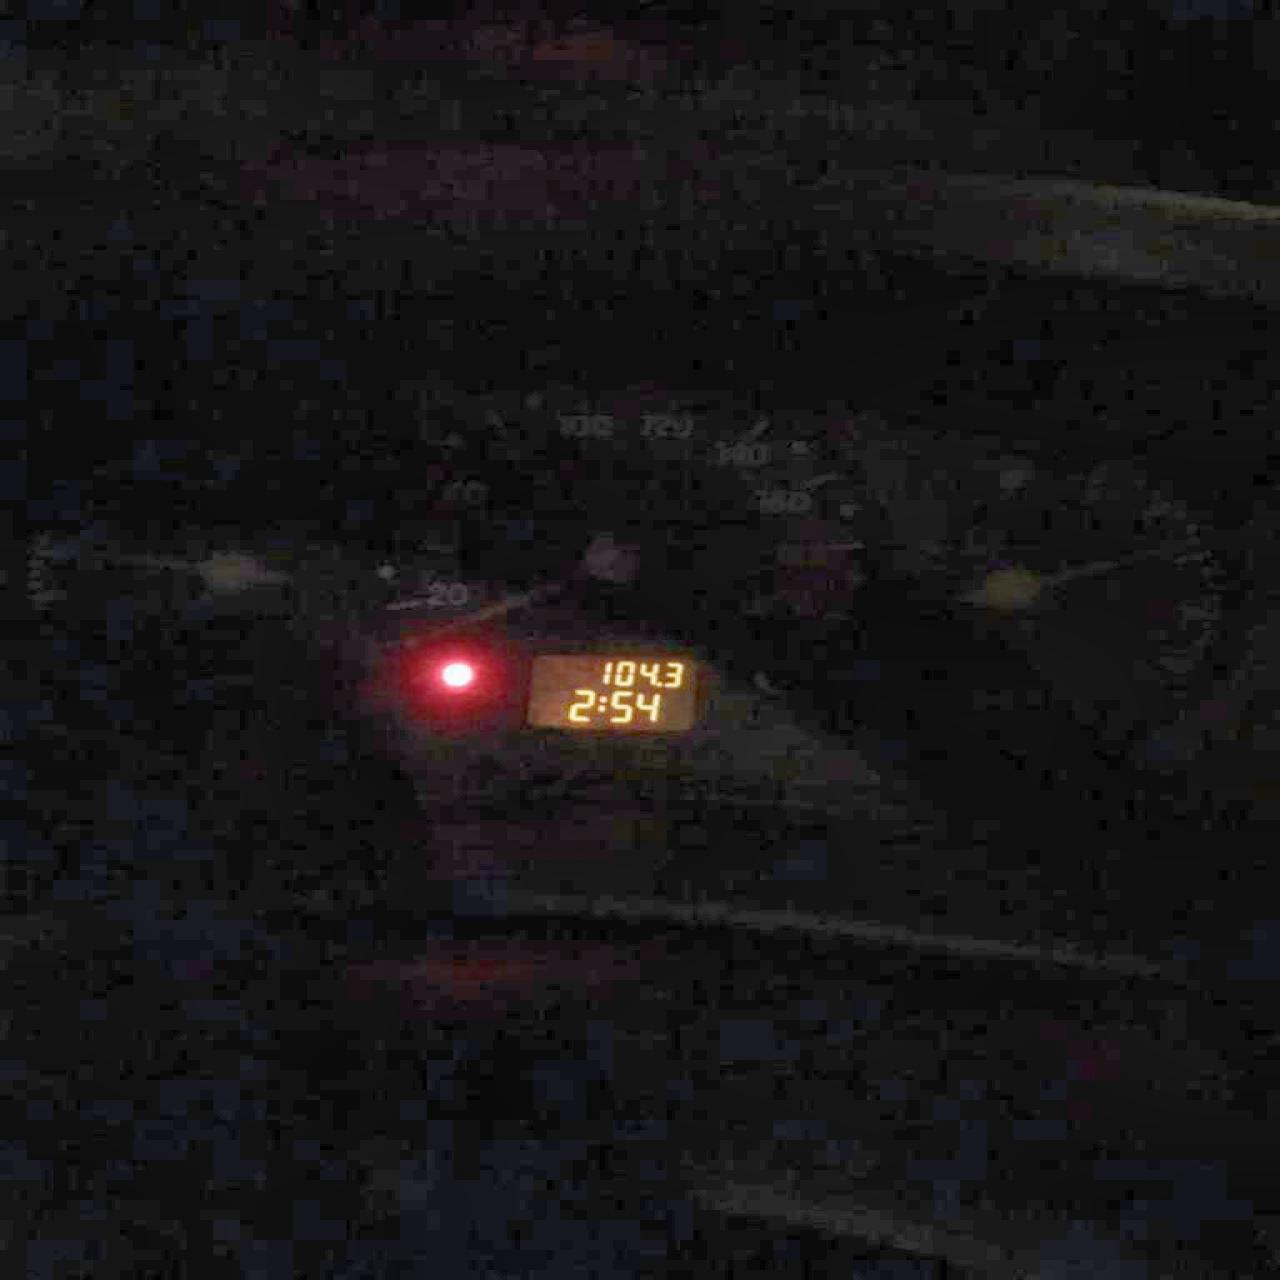-: (653, 679, 662, 686)
0: (612, 659, 636, 686)
1: (597, 660, 612, 685)
2: (565, 687, 595, 722)
3: (662, 660, 683, 688)
4: (633, 690, 662, 721), (636, 660, 656, 685)
5: (608, 688, 633, 722)
X: (595, 694, 607, 712)
odometer: (515, 648, 703, 736)
